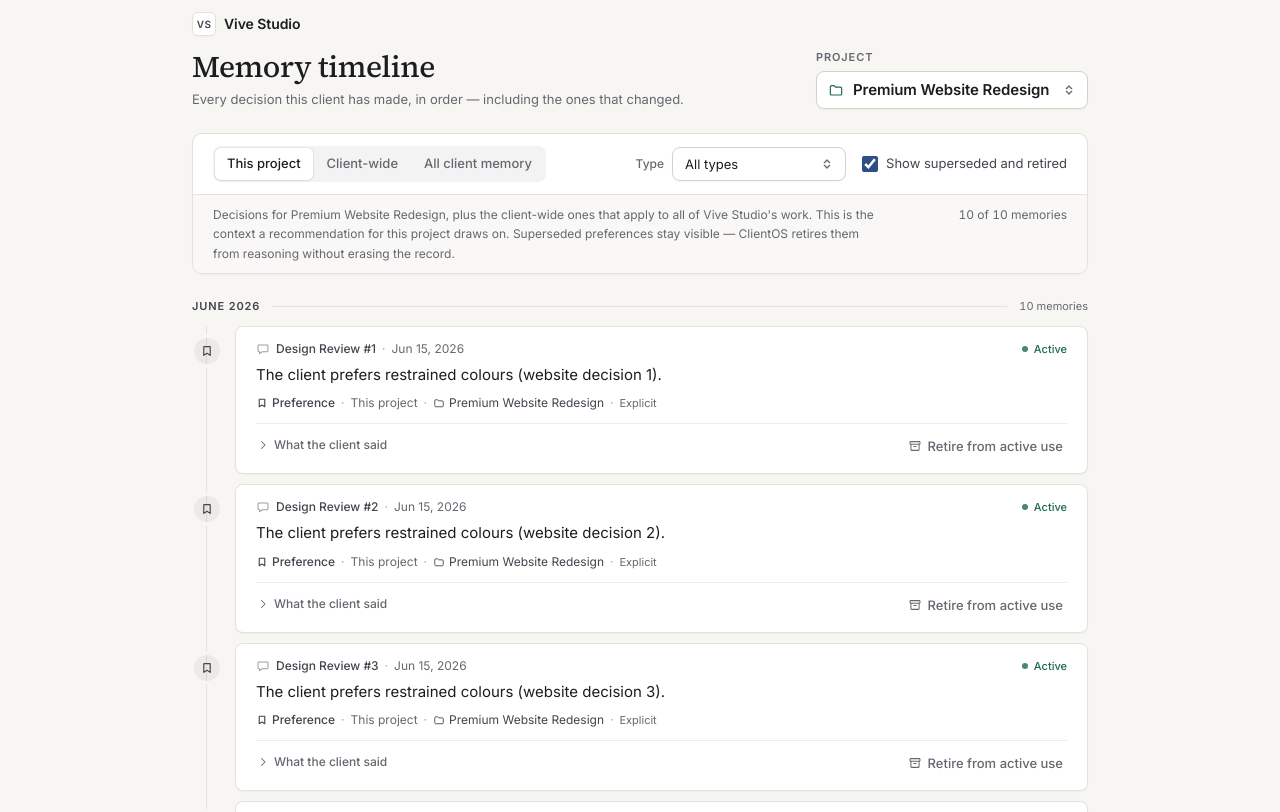
Test case: MemoryTimeline — view options › the client-wide view shows only memories that belong to the client
Expected: the text "The client prefers restrained colours (website decision 1)." is shown, [256,365,662,384]
Click the tab "Client-wide" at (362, 164), box [315,148,410,180]
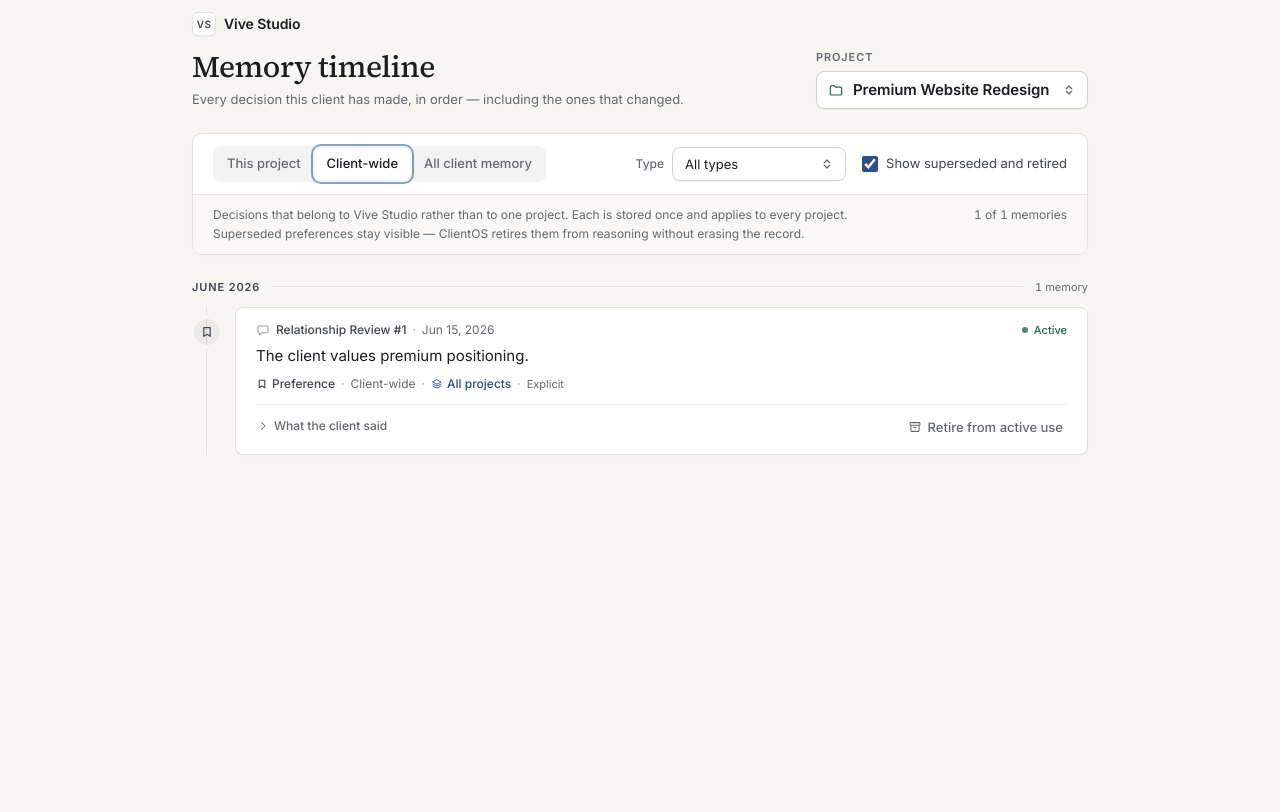
Expected: the text "The client values premium positioning." is shown, [256,346,529,364]
Result: the text "website decision 1" is gone
